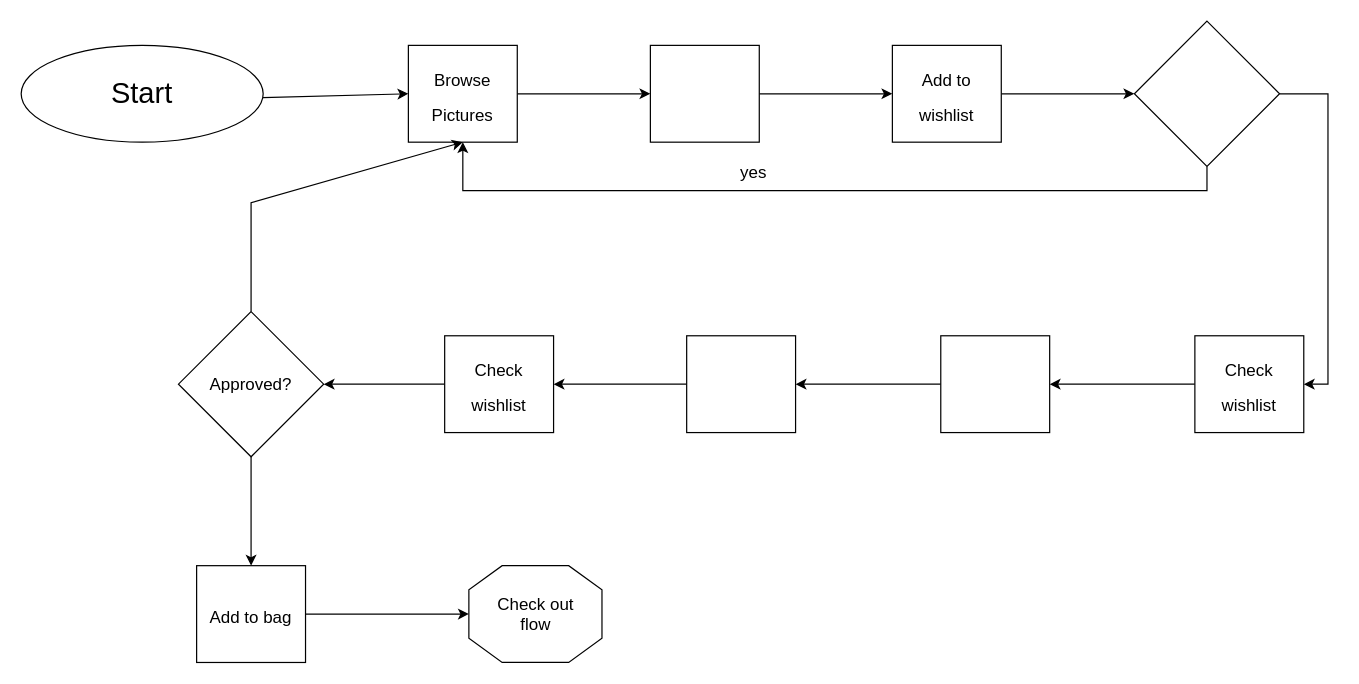
The diagram is 1359 pixels wide and 684 high, and some of its shapes have lost their labels. Each missing label, with the box of its shape:
Ask artist approval: (685, 335, 796, 433)
Browse more pictures?: (1133, 20, 1280, 166)
Choose picture: (940, 335, 1050, 433)
Choose Pictures: (649, 44, 759, 142)
